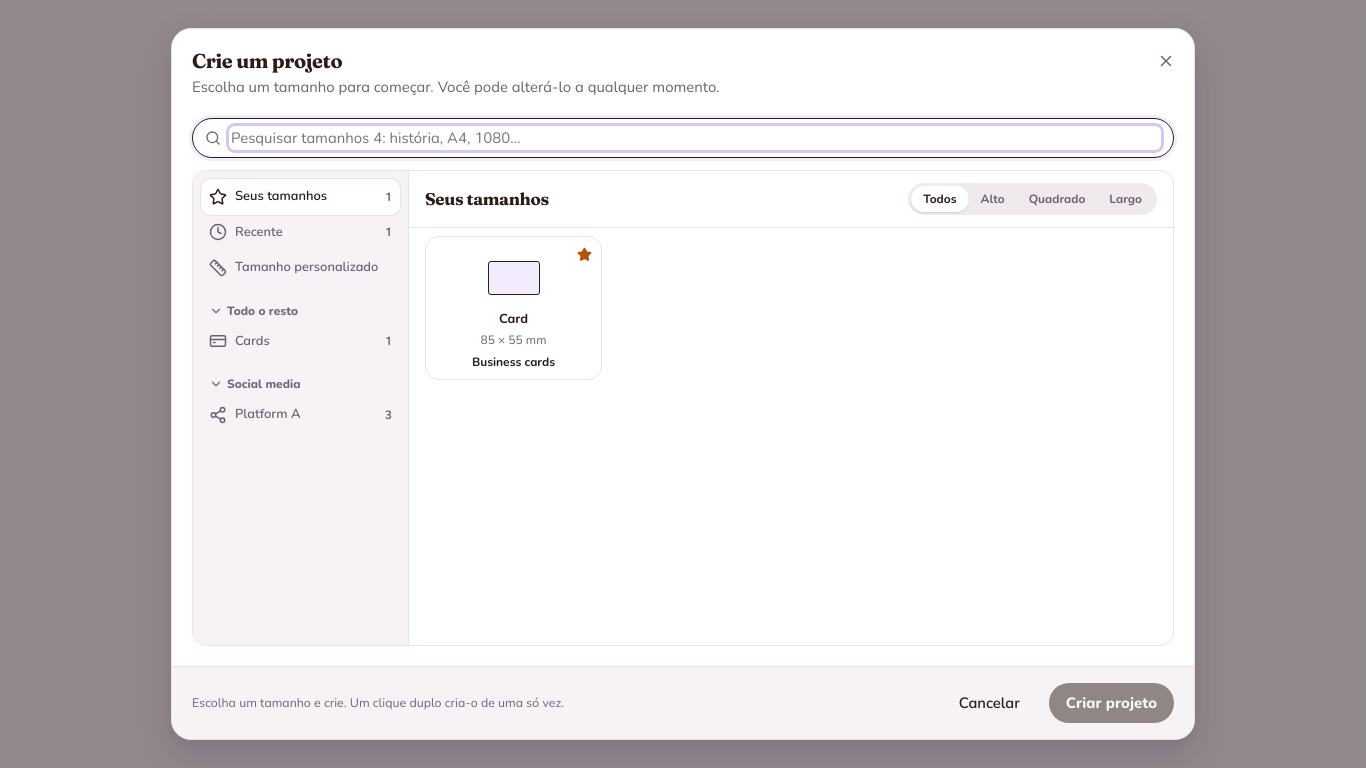
it: Create a design dialog › pins a size to your sizes and shows recent ones
The width and height of the screenshot is (1366, 768).
Click the button "Recente 1" at (300, 232), box [201,215,400,250]
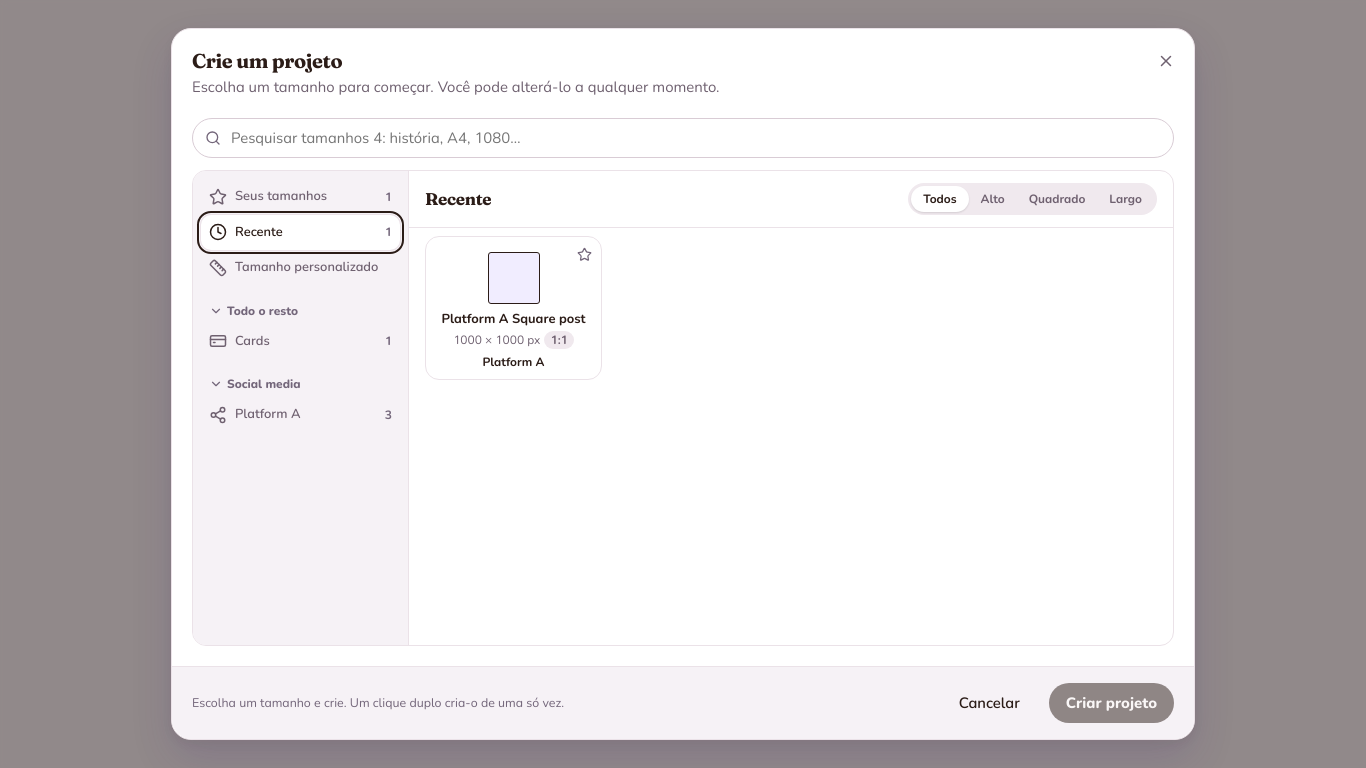
Click the button named "Adicione aos seus tamanhos" at (584, 254), box [570,240,598,268]
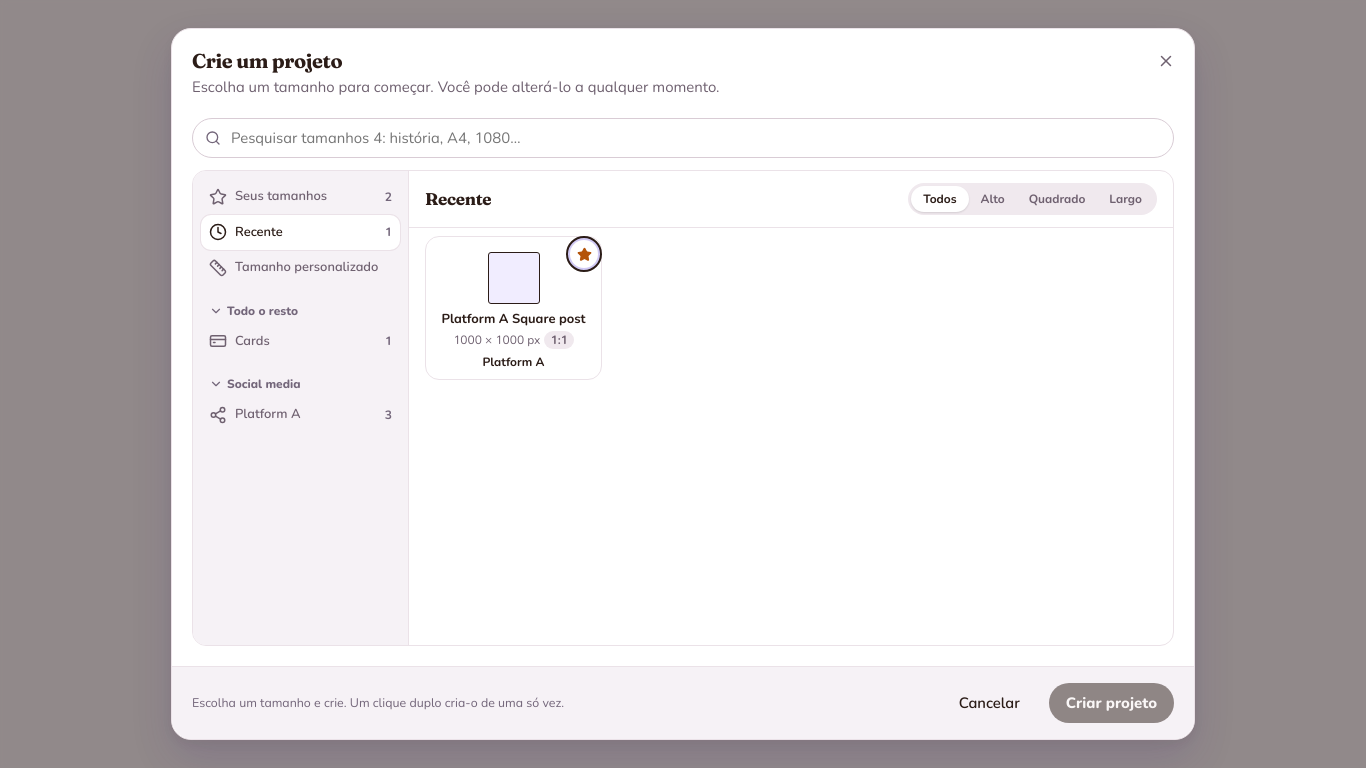
Click the button "Seus tamanhos 2" at (300, 197), box [201,179,400,215]
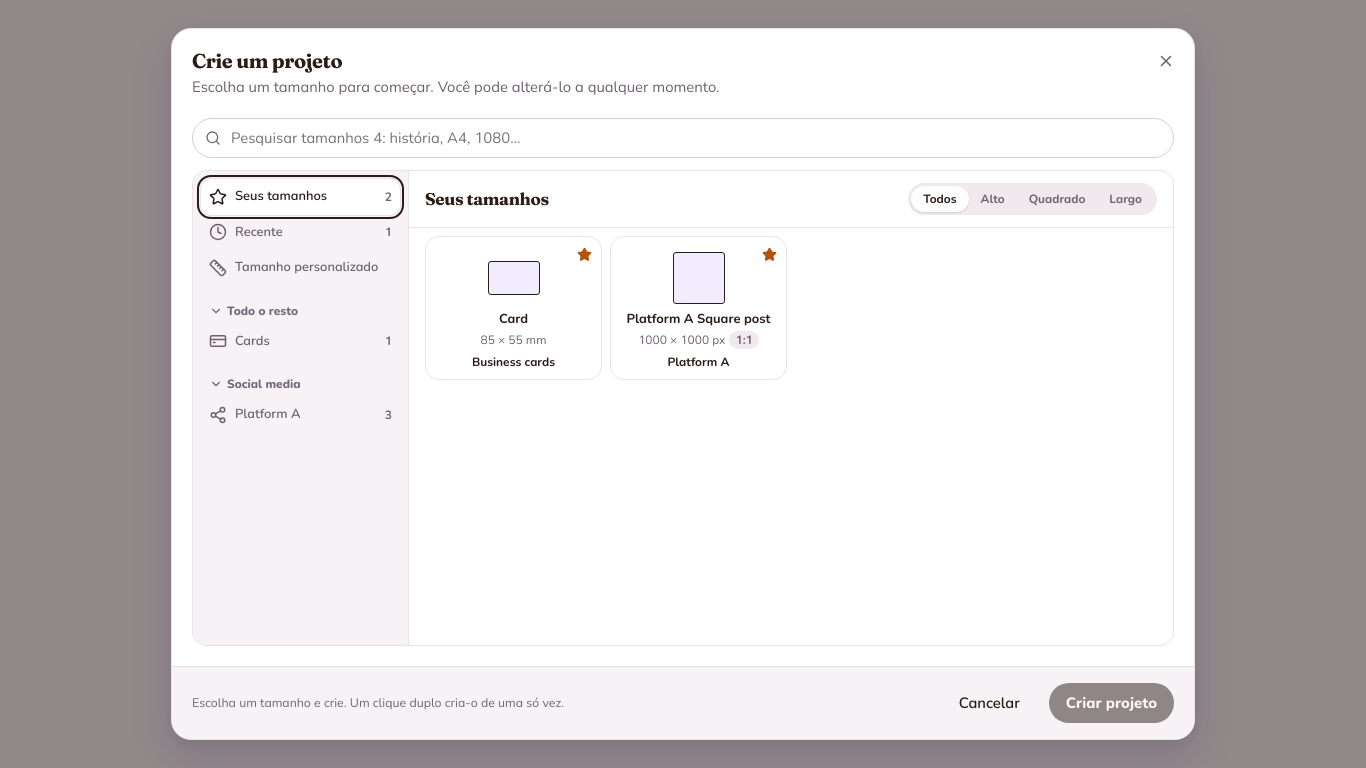
Click the 1st button named "Remova dos seus tamanhos" at (584, 254), box [570,240,598,268]
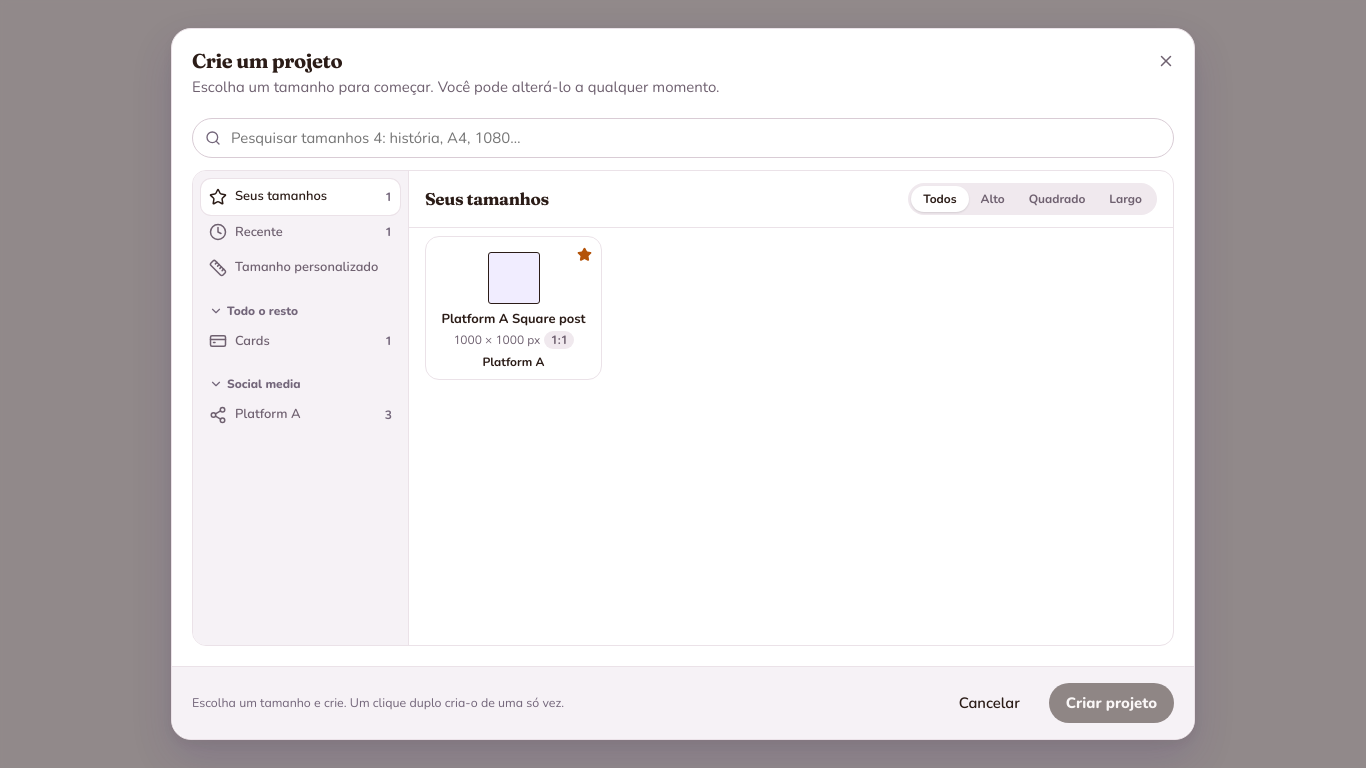
Note: With none left, it says how to add one.
Click the button named "Remova dos seus tamanhos" at (584, 254), box [570,240,598,268]
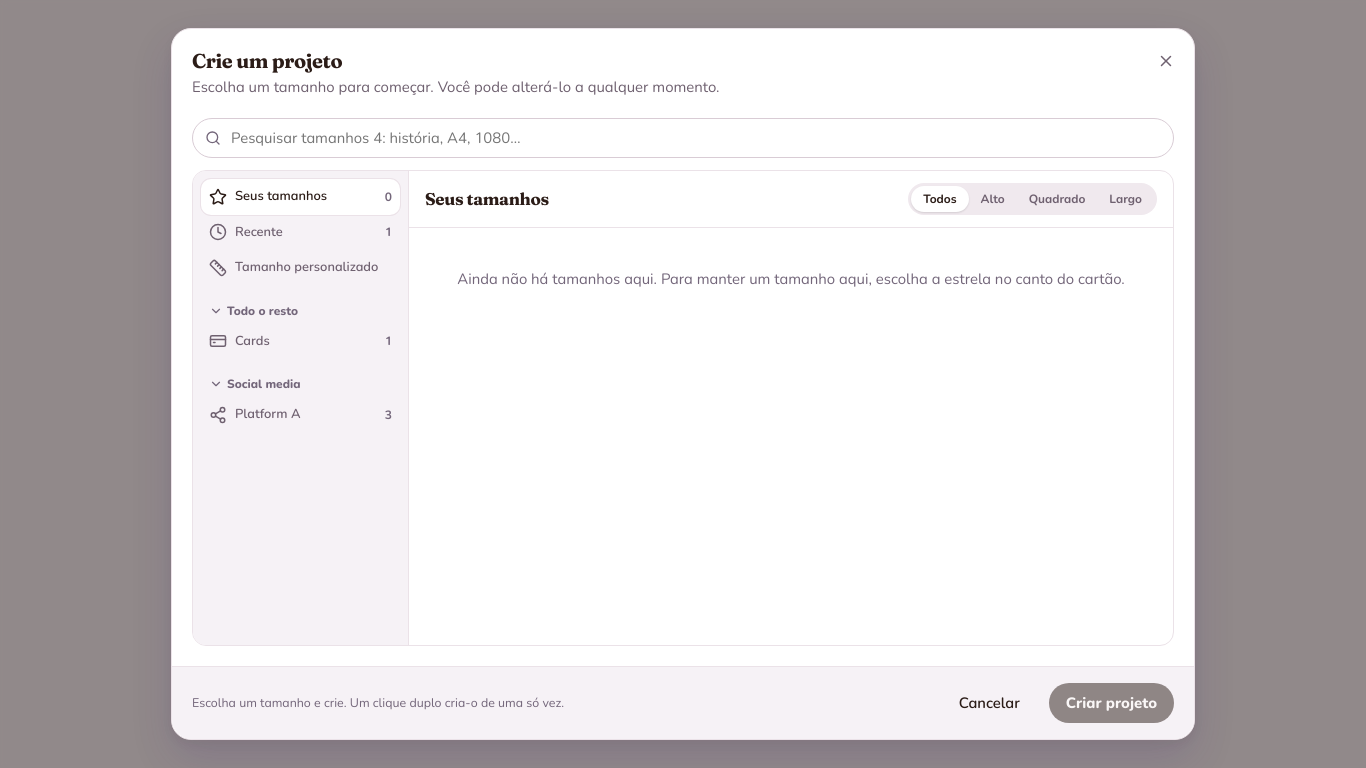
Expected: the text "escolha a estrela no canto do cartão" is shown, [457,269,1125,289]
